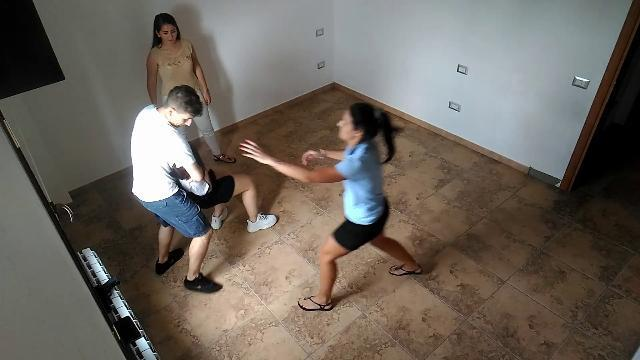non-violence: (236, 101, 424, 315), (146, 10, 237, 170)
violence: (126, 85, 280, 293)
